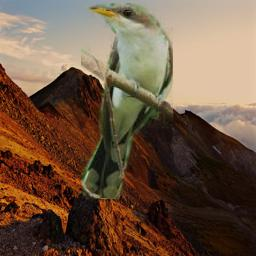Cuckoo: (81, 3, 173, 199)
